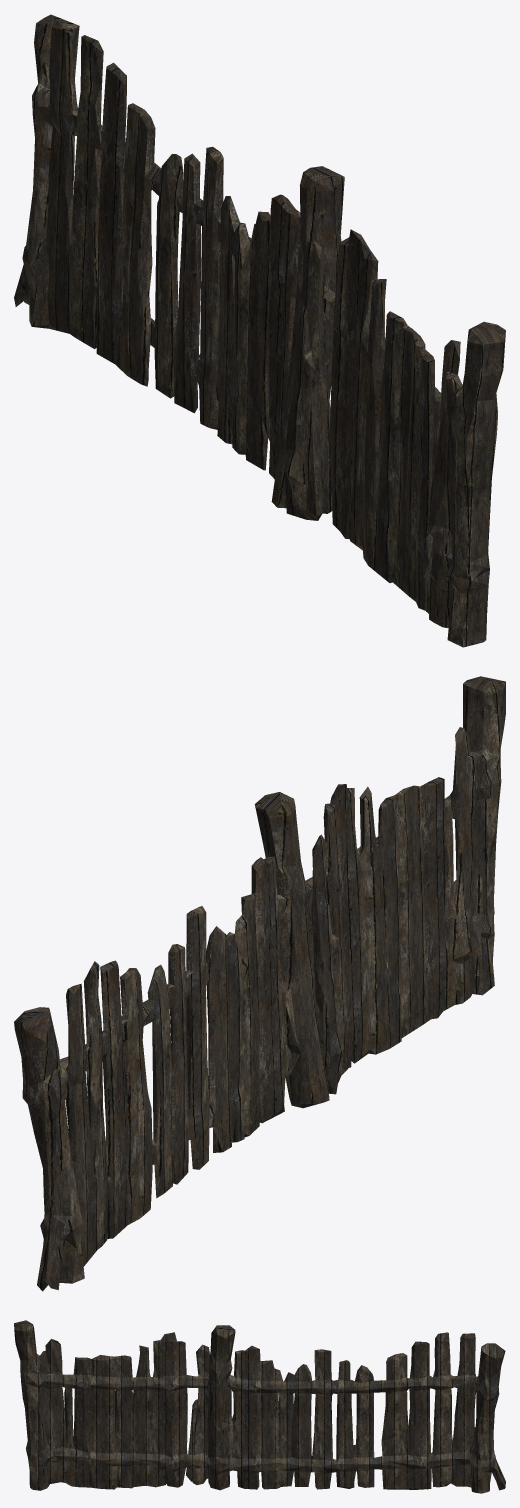
The model's file is bamboo_fence_reduced.glb.
3 renders of one model, top to bottom at view 1: azimuth 30°, elevation 25°; view 2: azimuth 150°, elevation 25°; view 3: azimuth 270°, elevation 25°, orthographic. The views are drawn at different scales.
Visible parts, largest first — view 1: WornWood; view 2: WornWood; view 3: WornWood.
Part boxes in pixels (<box>): WornWood: <box>14,14,505,647</box>; WornWood: <box>14,676,505,1291</box>; WornWood: <box>14,1320,505,1493</box>.
Size of the model in its own units: 0.1938 by 0.7509 by 1.98.
1 material, 1 textured.
